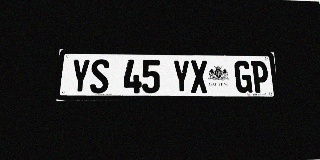4: (123, 59, 142, 93)
5: (142, 60, 160, 93)
G: (234, 61, 252, 93)
P: (251, 61, 269, 93)
S: (90, 59, 109, 93)
X: (190, 60, 208, 93)
Y: (70, 59, 90, 93), (172, 60, 190, 93)
